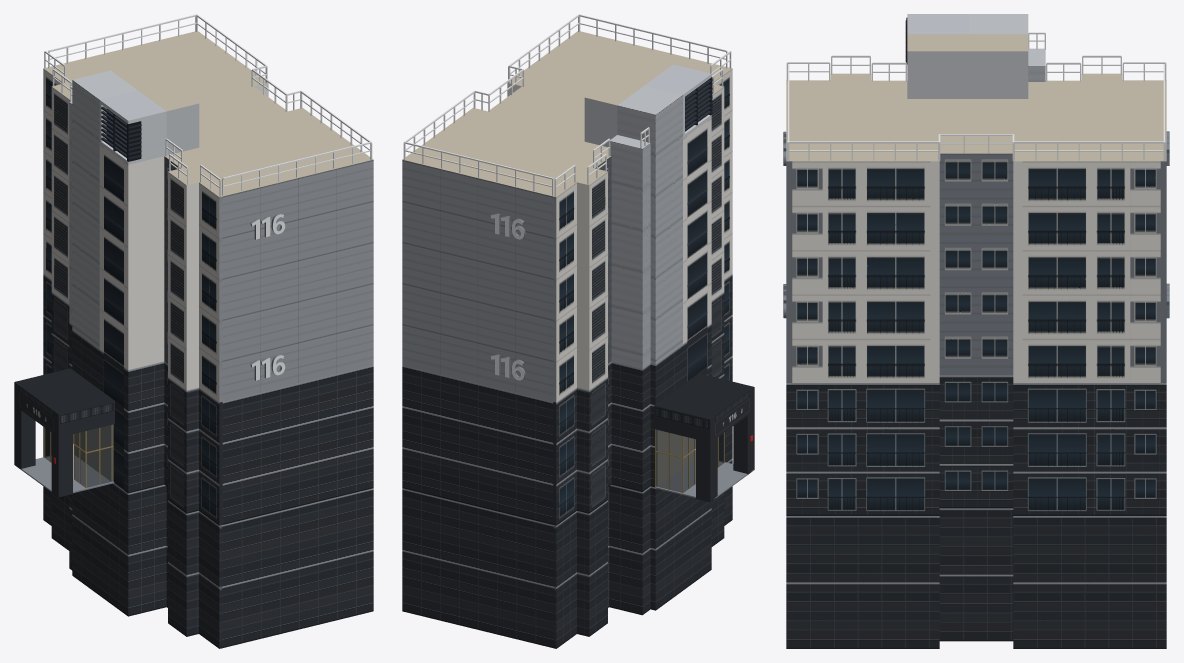
The model's file is place_금파힐116.glb.
3 renders of one model, left to right at view 1: azimuth 30°, elevation 25°; view 2: azimuth 150°, elevation 25°; view 3: azimuth 270°, elevation 25°, orthographic. The views are drawn at different scales.
Parts seen in each view (by area): view 1: KumhoParkHills_116, Basement_B1B2_2, Basement_B1B2_9, Basement_B1B2_6, Basement_B1B2_4, Basement_B1B2_8, Basement_B1B2_5; view 2: KumhoParkHills_116, Basement_B1B2_0, Basement_B1B2_7, Basement_B1B2_5, Basement_B1B2_8, Basement_B1B2_3, Basement_B1B2_9, Basement_B1B2_6, Basement_B1B2_4; view 3: KumhoParkHills_116, Basement_B1B2_0, Basement_B1B2_2, Basement_B1B2_1.
Part boxes in pixels (<box>): KumhoParkHills_116: <box>14,14,373,525</box>; Basement_B1B2_2: <box>166,486,373,647</box>; Basement_B1B2_9: <box>99,483,166,616</box>; Basement_B1B2_6: <box>168,500,198,636</box>; Basement_B1B2_4: <box>199,511,222,648</box>; Basement_B1B2_8: <box>72,487,99,595</box>; Basement_B1B2_5: <box>51,492,69,550</box>; KumhoParkHills_116: <box>402,14,754,525</box>; Basement_B1B2_0: <box>402,486,609,647</box>; Basement_B1B2_7: <box>609,484,650,615</box>; Basement_B1B2_5: <box>577,500,607,636</box>; Basement_B1B2_8: <box>650,486,682,610</box>; Basement_B1B2_3: <box>553,511,576,648</box>; Basement_B1B2_9: <box>683,495,711,590</box>; Basement_B1B2_6: <box>711,434,724,546</box>; Basement_B1B2_4: <box>724,427,732,525</box>; KumhoParkHills_116: <box>783,14,1169,515</box>; Basement_B1B2_0: <box>1013,516,1166,648</box>; Basement_B1B2_2: <box>786,516,939,648</box>; Basement_B1B2_1: <box>939,508,1013,641</box>.
Size of the model in its own units: 16.64 by 32 by 20.92.
90 materials, 48 textured.
